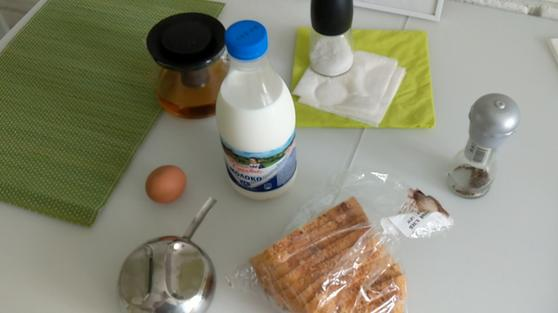egg: (147, 165, 188, 202)
milk: (213, 24, 302, 194)
white_bread: (247, 195, 408, 313)
